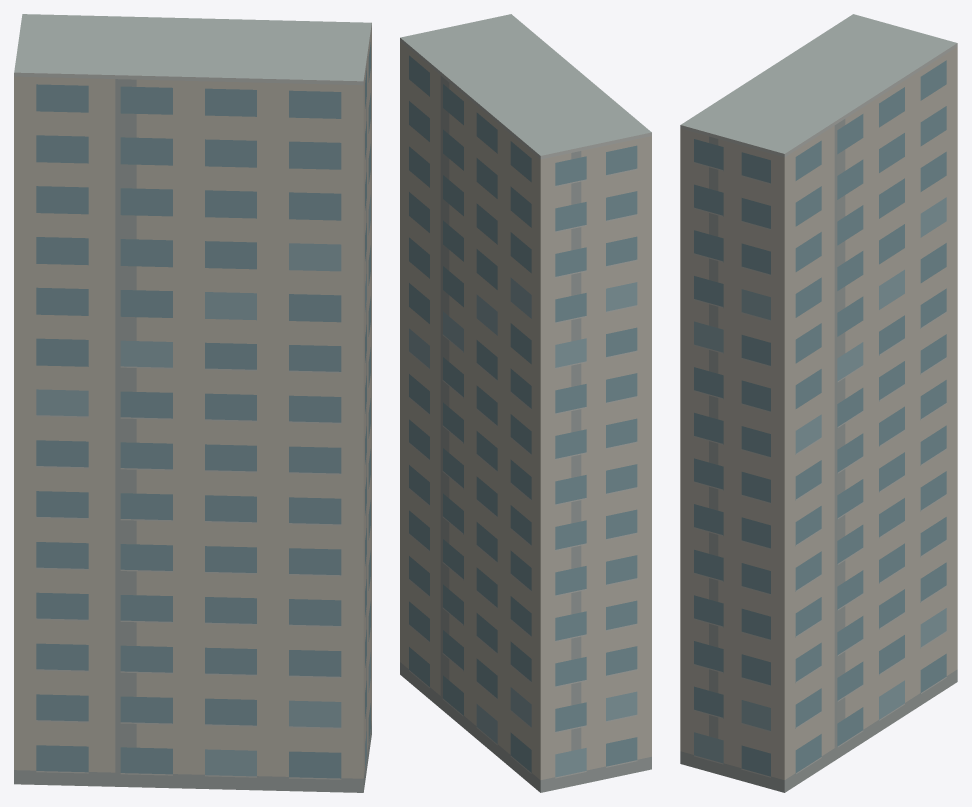
Rendered from residential-c20481b4-afeb-40a1-b597-408ea59ee885.glb.
The picture shows the model from 3 angles, left to right: view 1: azimuth 30°, elevation 25°; view 2: azimuth 150°, elevation 25°; view 3: azimuth 270°, elevation 25°; orthographic projection. The views are drawn at different scales.
Parts seen in each view (by area): view 1: residential-c20481b4-afeb-40a1-b597-408ea59ee885.tmp; view 2: residential-c20481b4-afeb-40a1-b597-408ea59ee885.tmp; view 3: residential-c20481b4-afeb-40a1-b597-408ea59ee885.tmp.
Part boxes in pixels (left/top/right/bottom): residential-c20481b4-afeb-40a1-b597-408ea59ee885.tmp: left=14, top=14, right=371, bottom=792; residential-c20481b4-afeb-40a1-b597-408ea59ee885.tmp: left=400, top=14, right=651, bottom=792; residential-c20481b4-afeb-40a1-b597-408ea59ee885.tmp: left=680, top=14, right=957, bottom=792.
Size of the model in its own units: 20.68 by 44 by 17.3.
